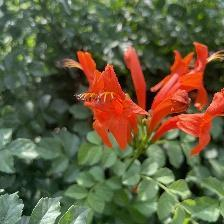honeysuckle: (71, 50, 143, 146)
